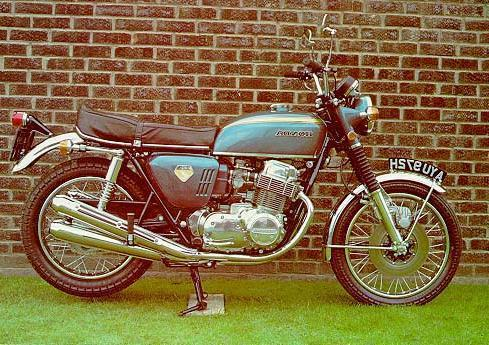Motorcycle: (0, 19, 473, 322)
